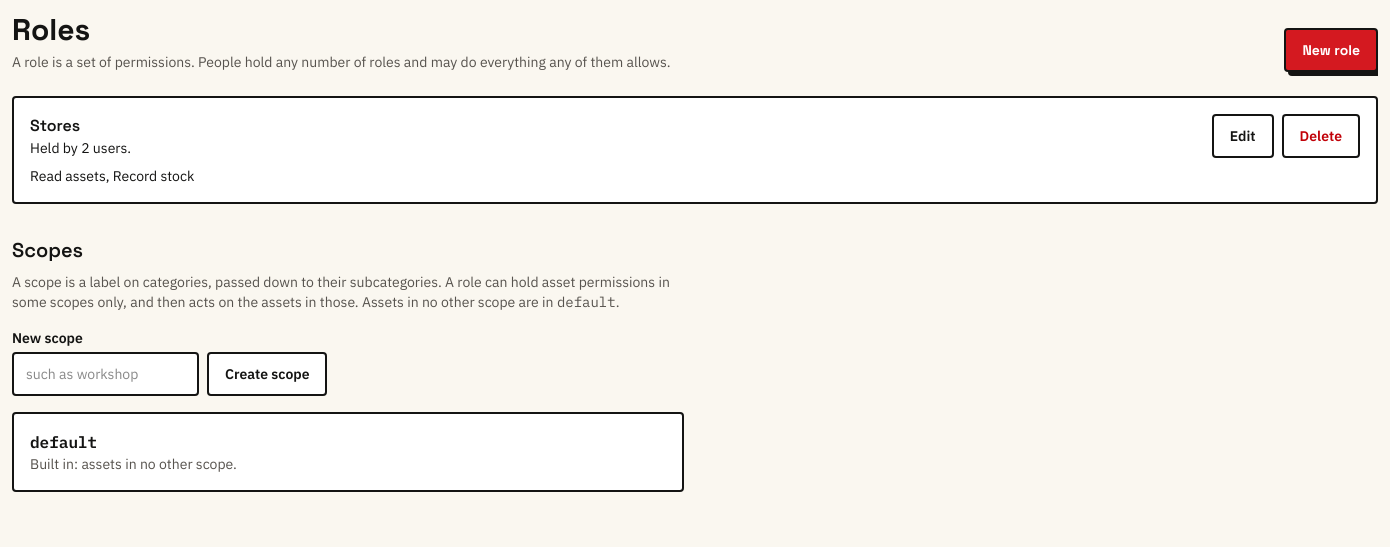
Test case: RolesPage › explains an anti-lockout refusal
Click the button "Delete": {"x": 1321, "y": 136} [1282,114,1360,158]
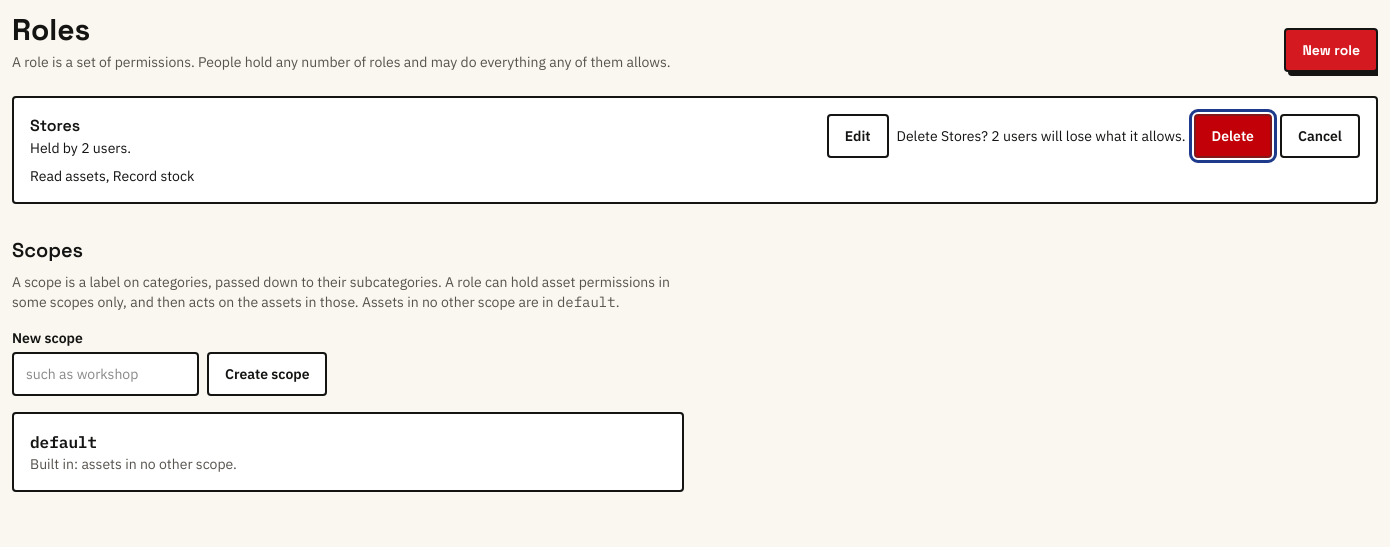
Click the button "Delete": {"x": 1233, "y": 136} [1194,114,1272,158]
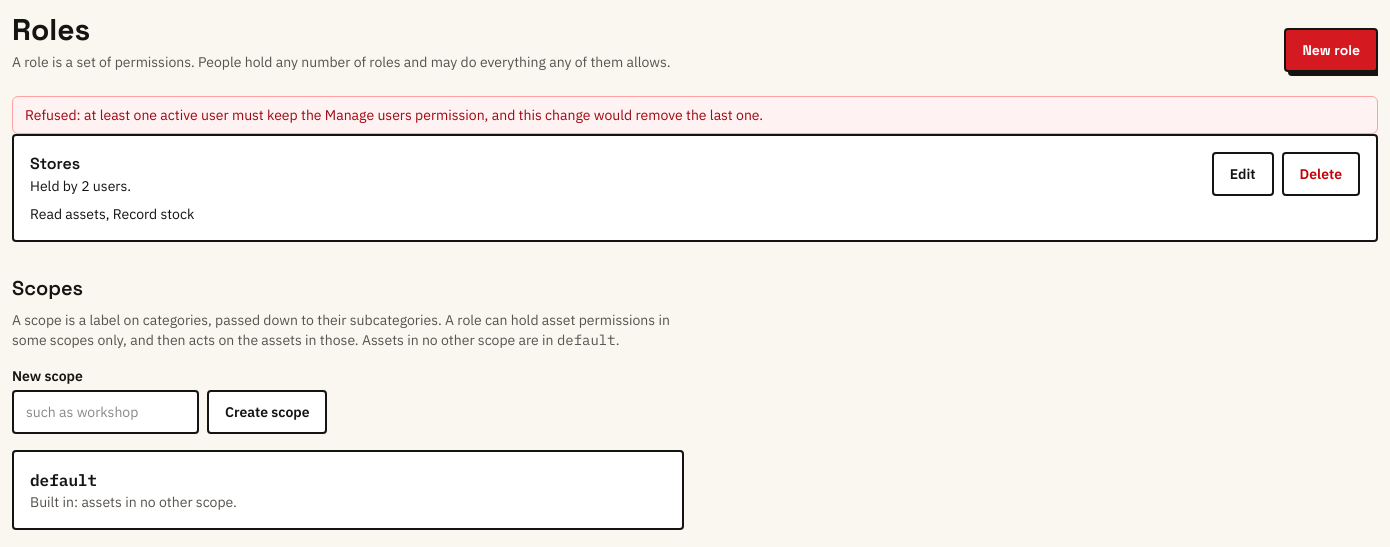
Now the message shows "would remove the last one", box [25,106,763,124]
